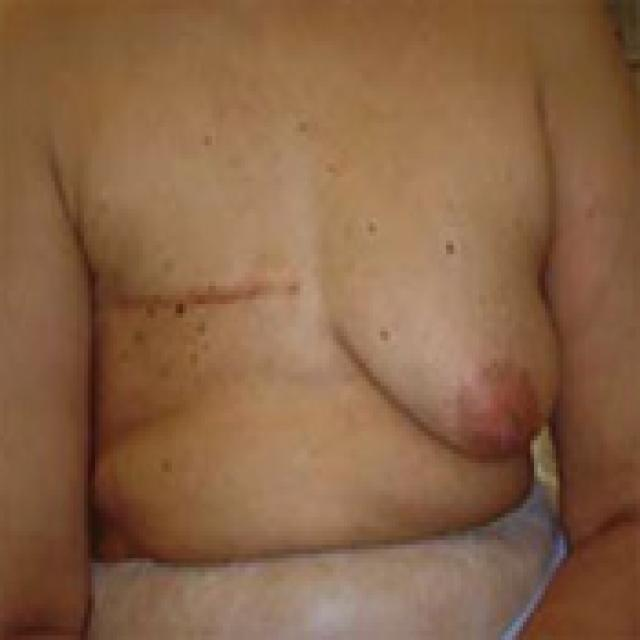Seno herido: (80, 190, 314, 459)
Seno ileso: (322, 189, 570, 482)
